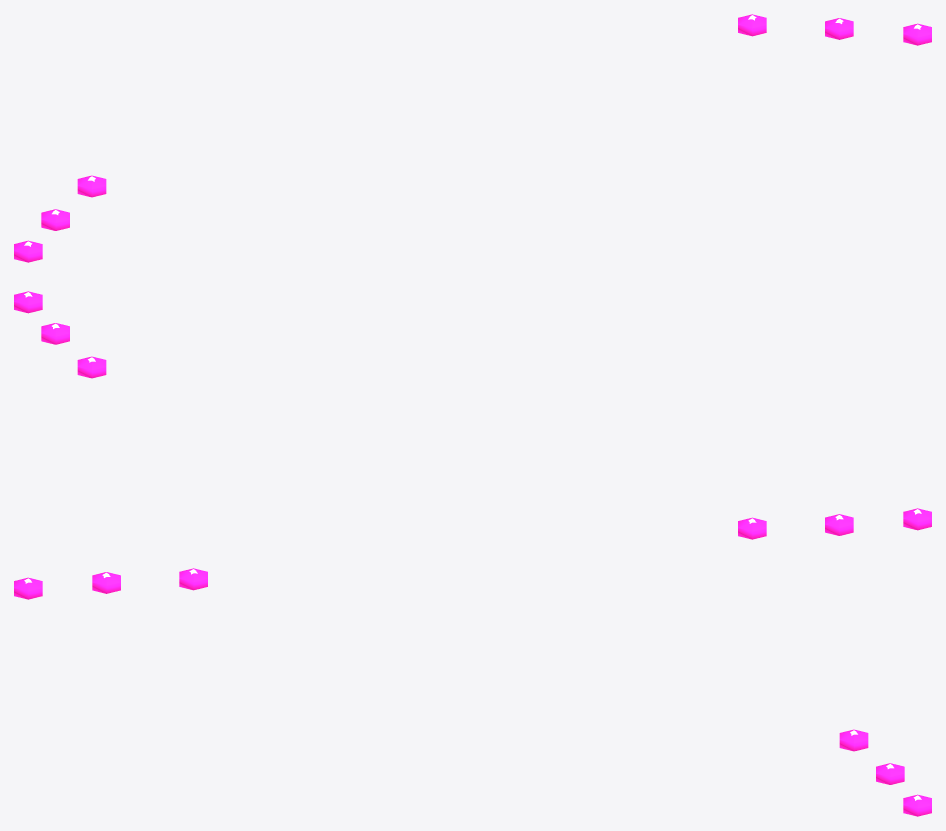
File: bf_elite_spread_shot.glb
3 views of the same model, one above another, from view 1: azimuth 30°, elevation 25°; view 2: azimuth 150°, elevation 25°; view 3: azimuth 330°, elevation 25° (orthographic).
Parts seen in each view (by area): view 1: ELITE // MARGINAL SPOTS; view 2: ELITE // MARGINAL SPOTS; view 3: ELITE // MARGINAL SPOTS.
Boxes of the visible parts, x1,y1,x2,y2 form: ELITE // MARGINAL SPOTS: (14, 14, 931, 262); ELITE // MARGINAL SPOTS: (14, 291, 931, 539); ELITE // MARGINAL SPOTS: (14, 568, 931, 816).
Bounding box in the file's own units: 3.54 × 0.068 × 0.4356.
